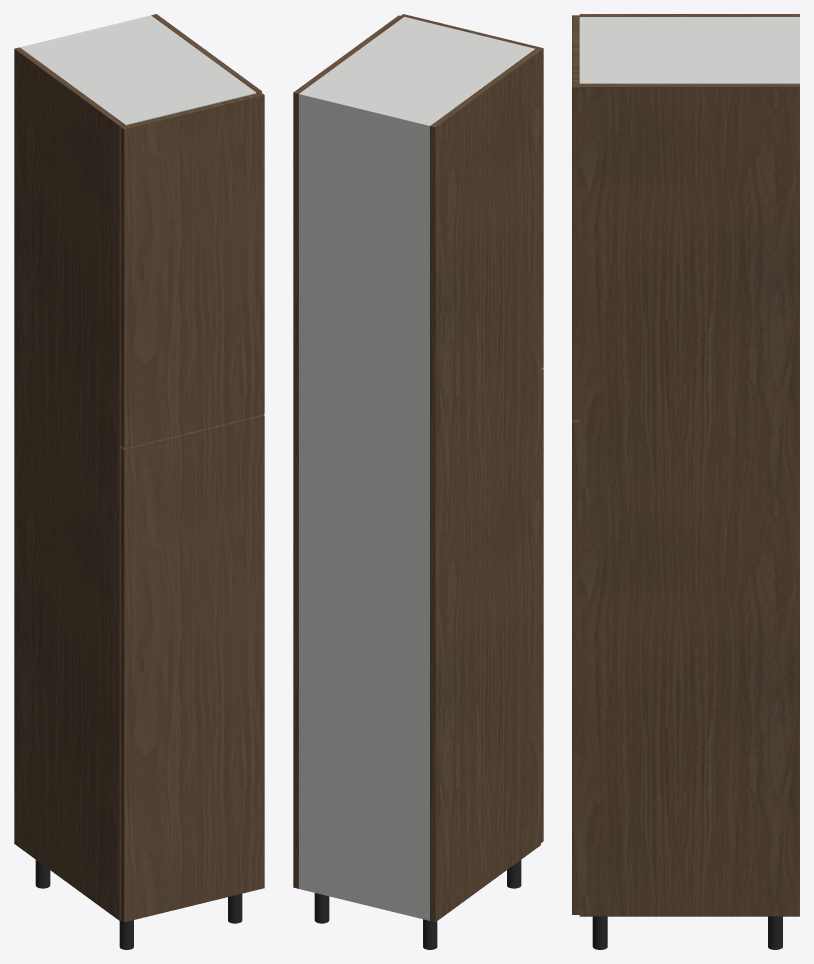
File: oppein-pb-mso-pc1896.glb
The picture shows the model from 3 angles, left to right: view 1: azimuth 30°, elevation 25°; view 2: azimuth 150°, elevation 25°; view 3: azimuth 270°, elevation 25°; orthographic projection. The views are drawn at different scales.
Parts seen in each view (by area): view 1: Cabinet side, Door, Door.001, Cabinet top, Cabinet side.001; view 2: Cabinet back, Cabinet side, Cabinet top, Cabinet side.001, Door, Door.001, Cabinet bottom; view 3: Cabinet side.001, Cabinet top, Door, Door.001, Cabinet side, Adjustable foot.003, Adjustable foot.002.
Part boxes in pixels (left/top/right/bottom): Cabinet side: left=14, top=47, right=125, bottom=920; Door: left=120, top=414, right=264, bottom=922; Door.001: left=120, top=92, right=264, bottom=448; Cabinet top: left=22, top=17, right=256, bottom=125; Cabinet side.001: left=151, top=14, right=261, bottom=93; Cabinet back: left=299, top=92, right=431, bottom=920; Cabinet side: left=430, top=49, right=540, bottom=922; Cabinet top: left=299, top=17, right=534, bottom=124; Cabinet side.001: left=293, top=15, right=403, bottom=888; Door: left=541, top=368, right=543, bottom=842; Door.001: left=401, top=14, right=543, bottom=368; Cabinet bottom: left=299, top=884, right=429, bottom=920; Cabinet side.001: left=579, top=83, right=799, bottom=916; Cabinet top: left=579, top=17, right=795, bottom=83; Door: left=572, top=420, right=579, bottom=914; Door.001: left=572, top=15, right=579, bottom=420; Cabinet side: left=579, top=14, right=799, bottom=16; Adjustable foot.003: left=592, top=916, right=607, bottom=949; Adjustable foot.002: left=768, top=916, right=782, bottom=949.
Bounding box in the file's own units: 0.4572 × 2.55 × 0.6064.
Materials: 3 (1 with a texture image).
